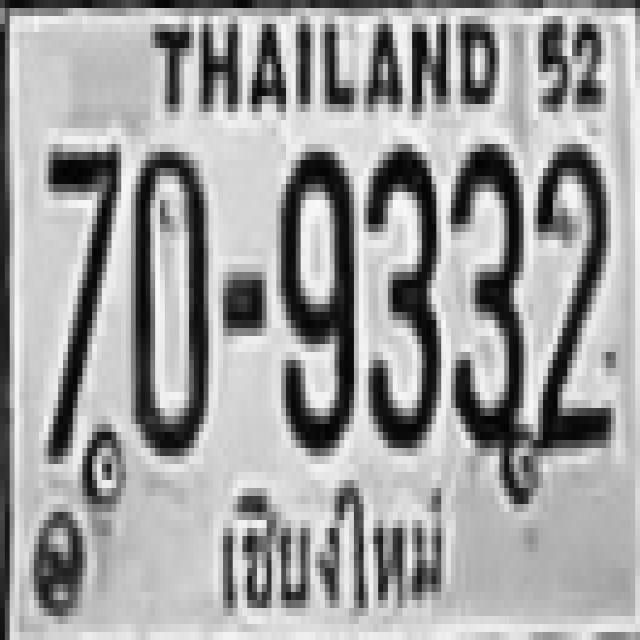0: (131, 144, 204, 448)
2: (531, 140, 608, 444)
3: (446, 136, 519, 448), (364, 140, 436, 444)
7: (44, 140, 116, 452), (44, 140, 116, 356)
9: (279, 144, 351, 448)
ChiangMai: (206, 466, 459, 640)
